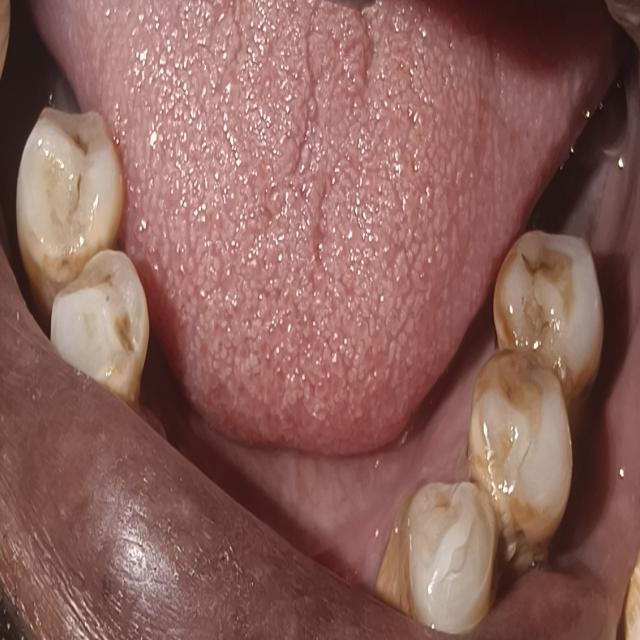processing_area: (28, 0, 587, 444)
